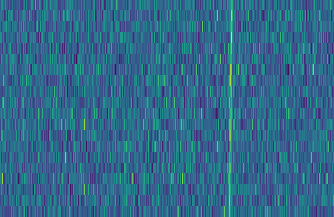signal: (225, 0, 237, 217)
